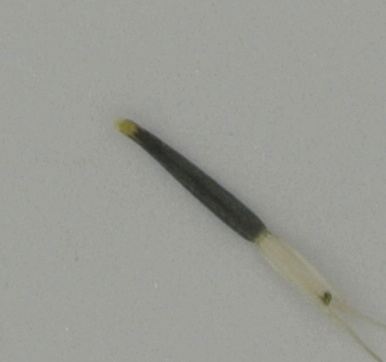เมล็ดดีเรียวยาว: (105, 114, 386, 360)
